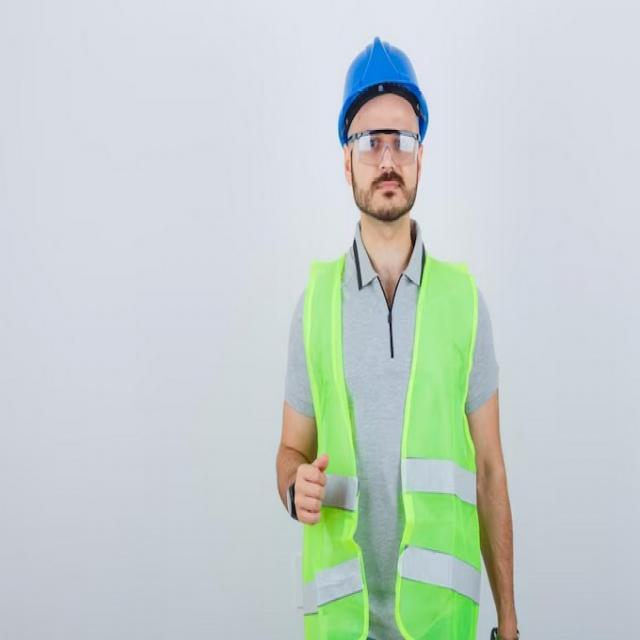helmet: (328, 35, 434, 146)
